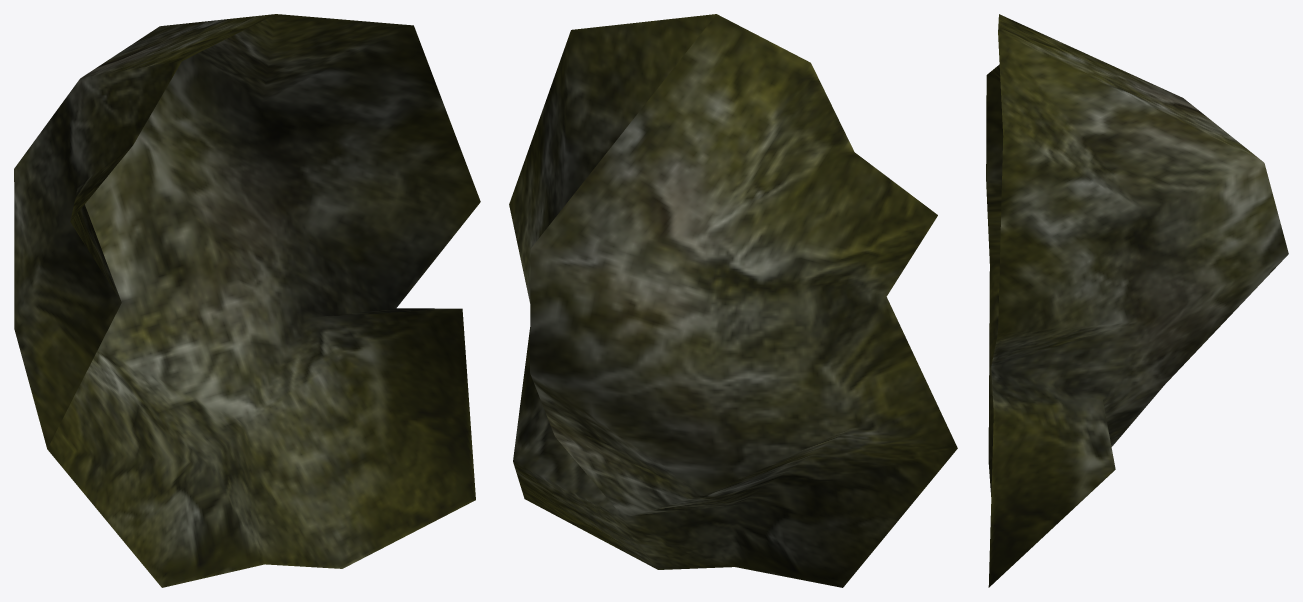
The model's file is MEP_GroundRocks_01_f_LOD_01.fbx.
3 renders of one model, left to right at view 1: azimuth 30°, elevation 25°; view 2: azimuth 150°, elevation 25°; view 3: azimuth 270°, elevation 25°, orthographic. The views are drawn at different scales.
Parts seen in each view (by area): view 1: MEP_GroundRock_01_f_LOD_01; view 2: MEP_GroundRock_01_f_LOD_01; view 3: MEP_GroundRock_01_f_LOD_01.
Boxes of the visible parts, left/top/right/bottom form: MEP_GroundRock_01_f_LOD_01: left=14, top=14, right=480, bottom=587; MEP_GroundRock_01_f_LOD_01: left=509, top=14, right=957, bottom=587; MEP_GroundRock_01_f_LOD_01: left=986, top=14, right=1288, bottom=587.
Bounding box in the file's own units: 2.01 × 2.49 × 1.36.
